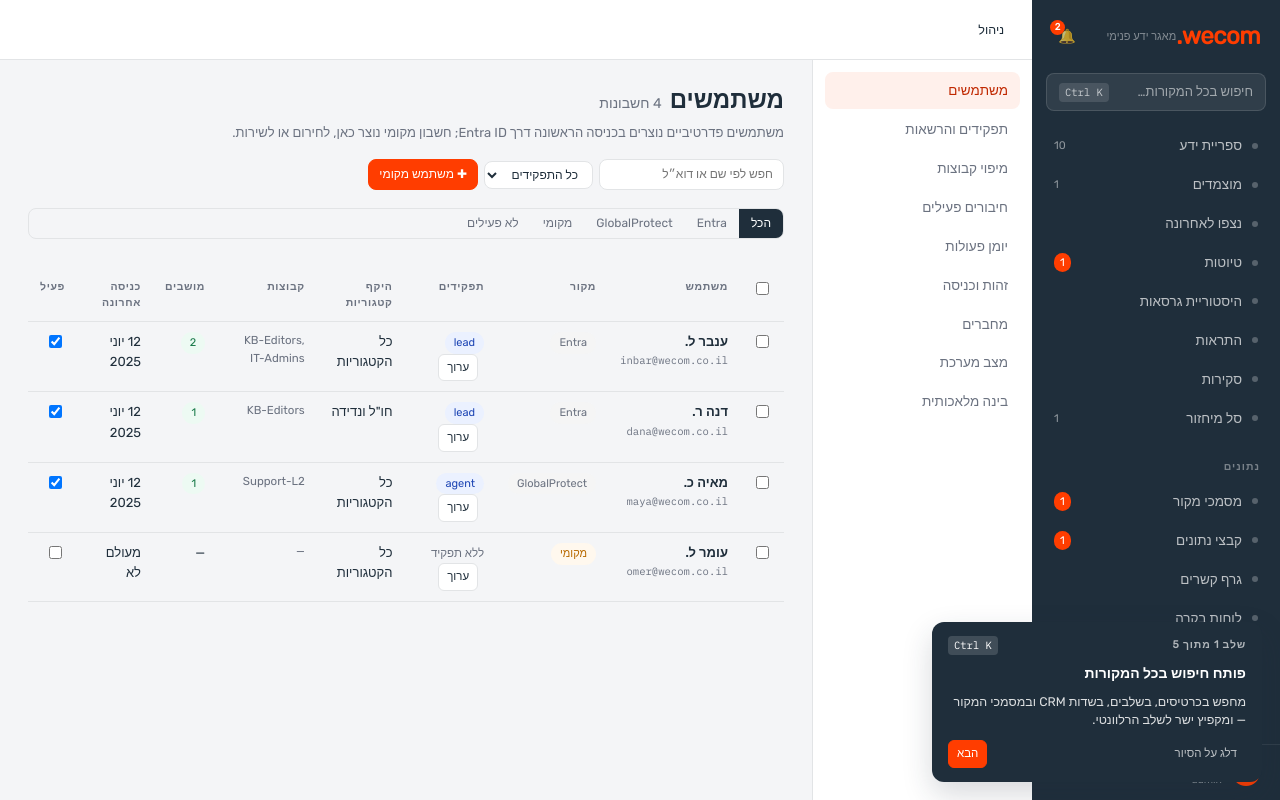
Test case: admin · users › deactivates an account
Click the checkbox named "פעיל: דנה ר.".
click(56, 412)  # box [49,406,62,418]
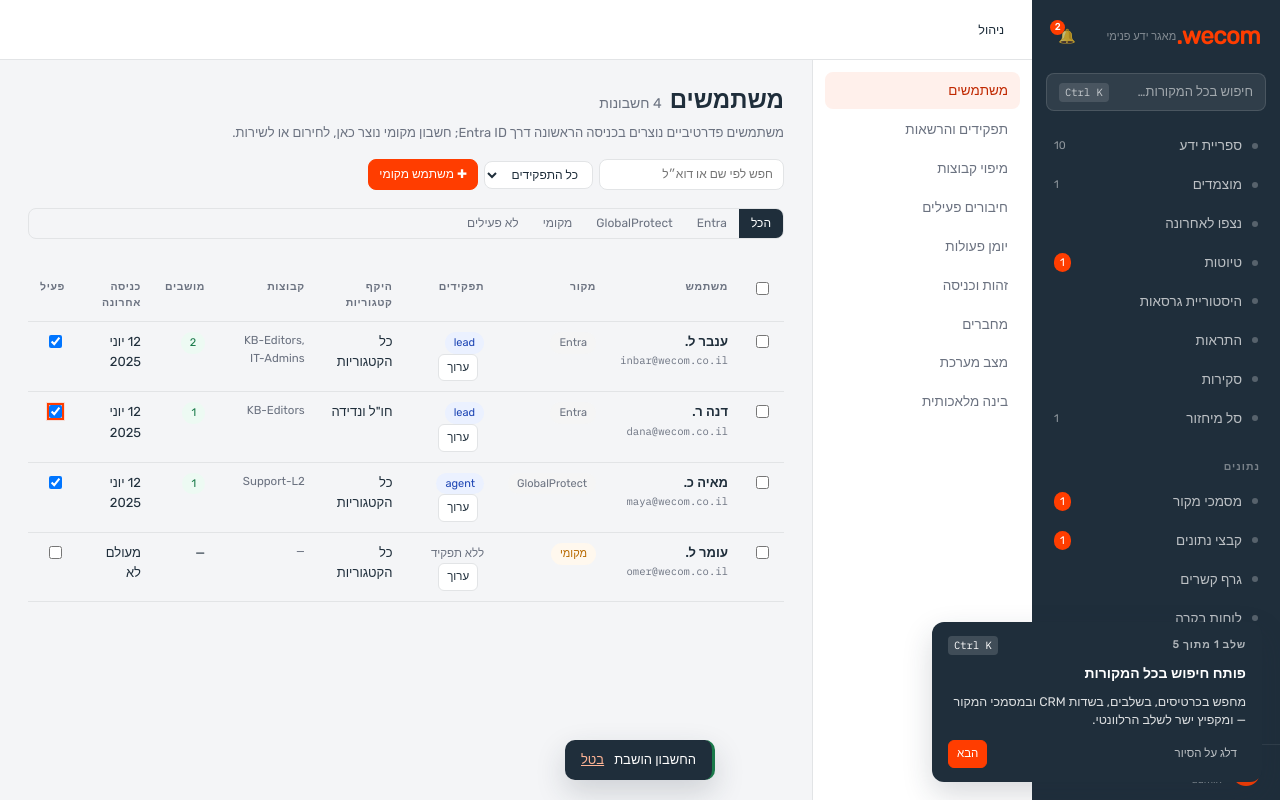
Check: the text "החשבון הושבת" is shown, box [614,750,696,770]
